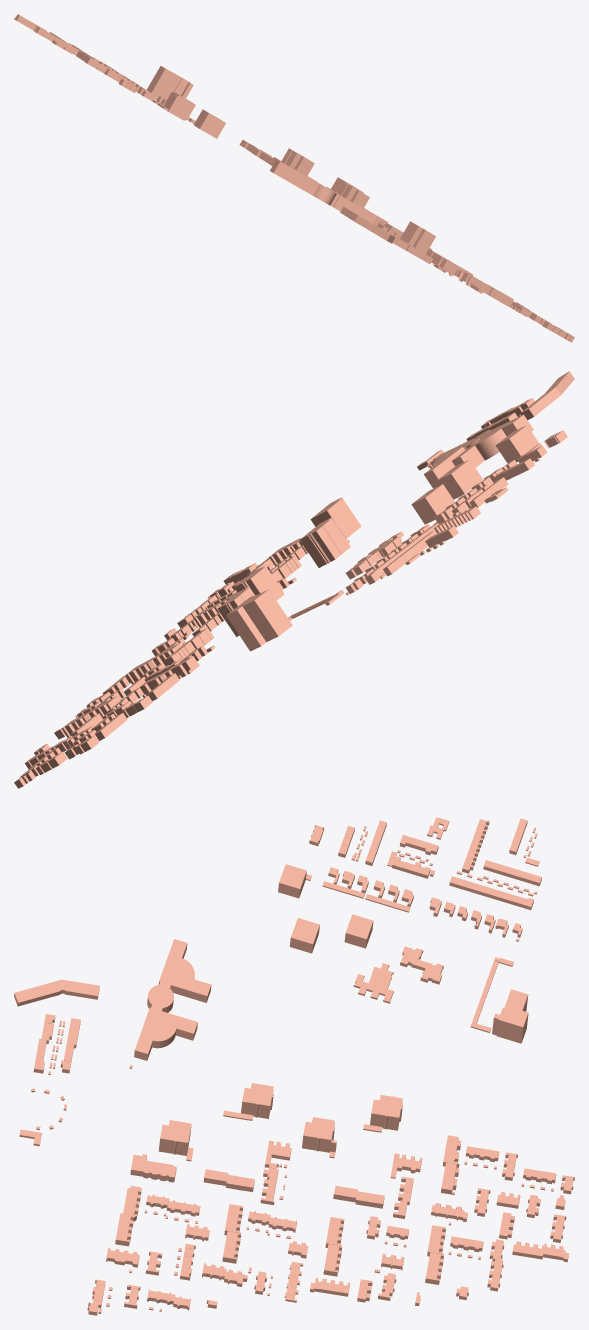
3 renders of one model, top to bottom at view 1: azimuth 30°, elevation 25°; view 2: azimuth 150°, elevation 25°; view 3: azimuth 270°, elevation 25°, orthographic. The views are drawn at different scales.
Bounding box in the file's own units: 525 × 380 × 630.
